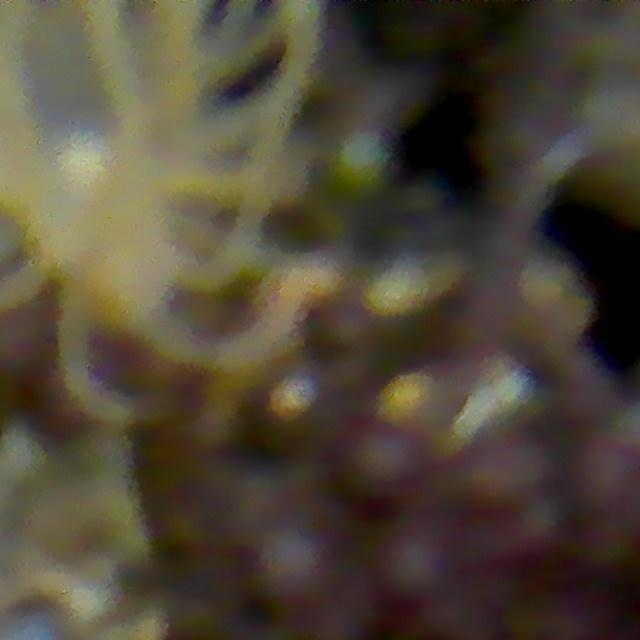SeaGrape: (256, 527, 327, 602), (381, 530, 448, 598), (348, 428, 415, 493)
